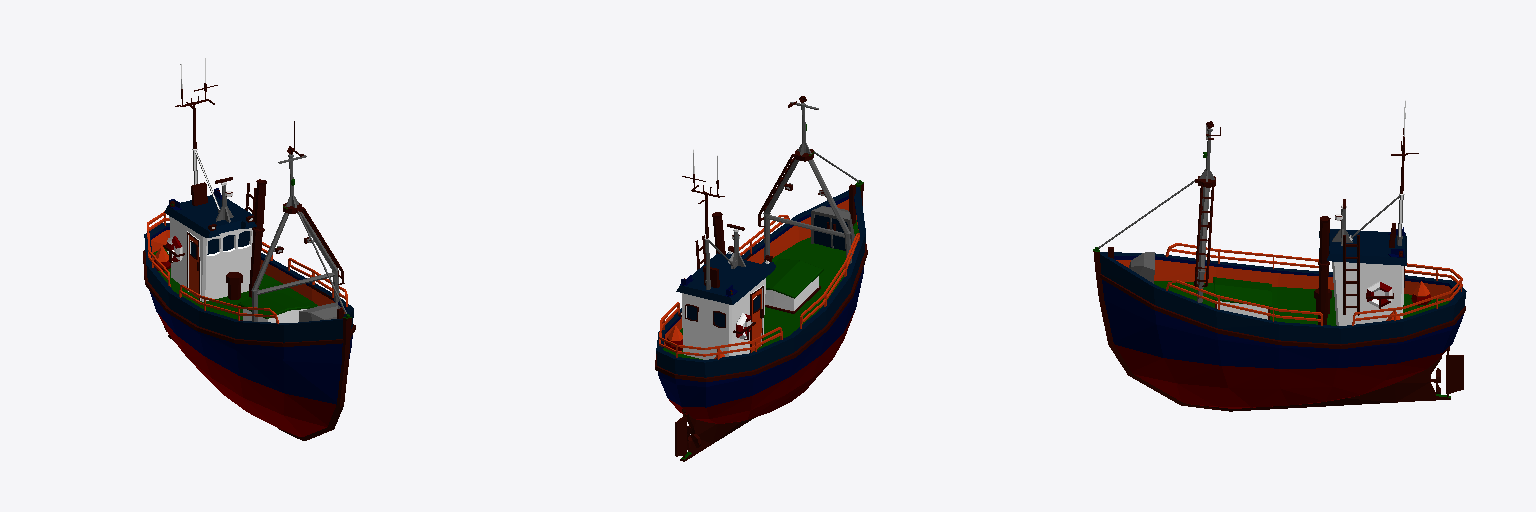
Rendered from boat.obj.
3 renders of one model, left to right at view 1: azimuth 30°, elevation 25°; view 2: azimuth 150°, elevation 25°; view 3: azimuth 270°, elevation 25°, orthographic.
Visible parts, largest first — view 1: body_main_body; view 2: body_main_body; view 3: body_main_body, Rudder_rudder.
Boxes of the visible parts, box(x1,y1,x2,y2) form: body_main_body: box(143, 58, 355, 440); body_main_body: box(655, 96, 867, 461); body_main_body: box(1093, 100, 1466, 411); Rudder_rudder: box(1446, 347, 1463, 396).
Bounding box in the file's own units: 2.29 × 5.67 × 6.21.